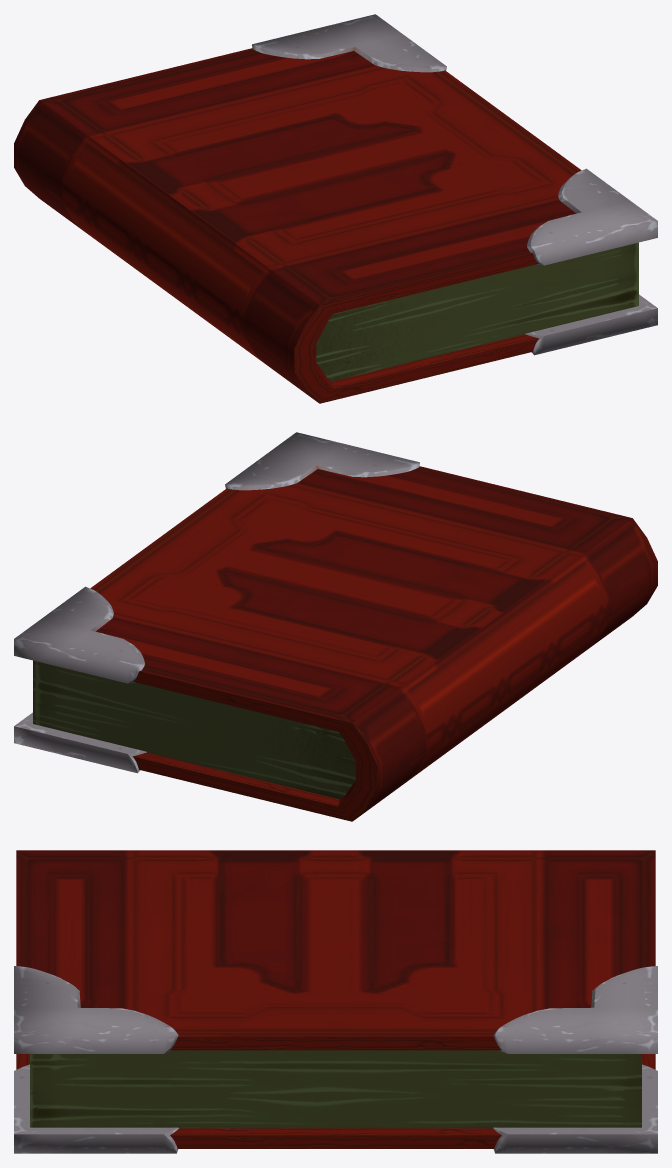
File: Book_7.gltf
The picture shows the model from 3 angles, top to bottom: view 1: azimuth 30°, elevation 25°; view 2: azimuth 150°, elevation 25°; view 3: azimuth 270°, elevation 25°; orthographic projection. The views are drawn at different scales.
Parts seen in each view (by area): view 1: Book_7; view 2: Book_7; view 3: Book_7.
Boxes of the visible parts, x1,y1,x2,y2 form: Book_7: (14,14,657,403); Book_7: (14,432,657,821); Book_7: (14,850,657,1153).
Bounding box in the file's own units: 0.247 × 0.0679 × 0.3333.
2 materials, 2 textured.
